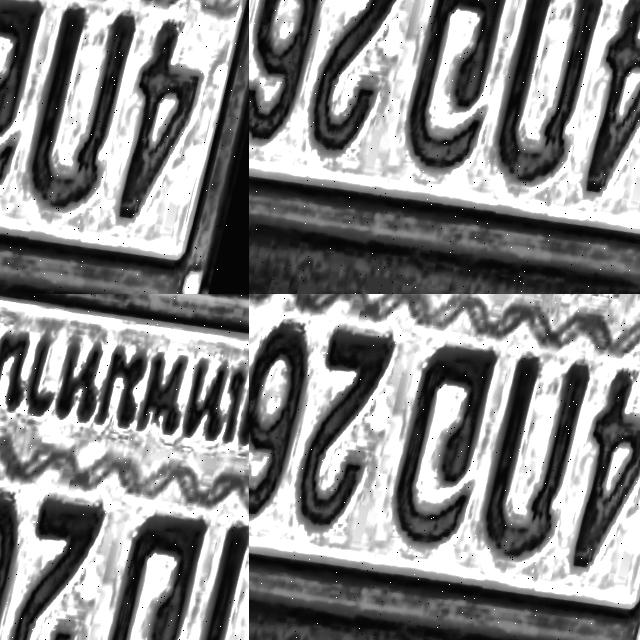license-plate: (249, 294, 640, 640), (479, 223, 640, 294), (35, 258, 212, 294)
